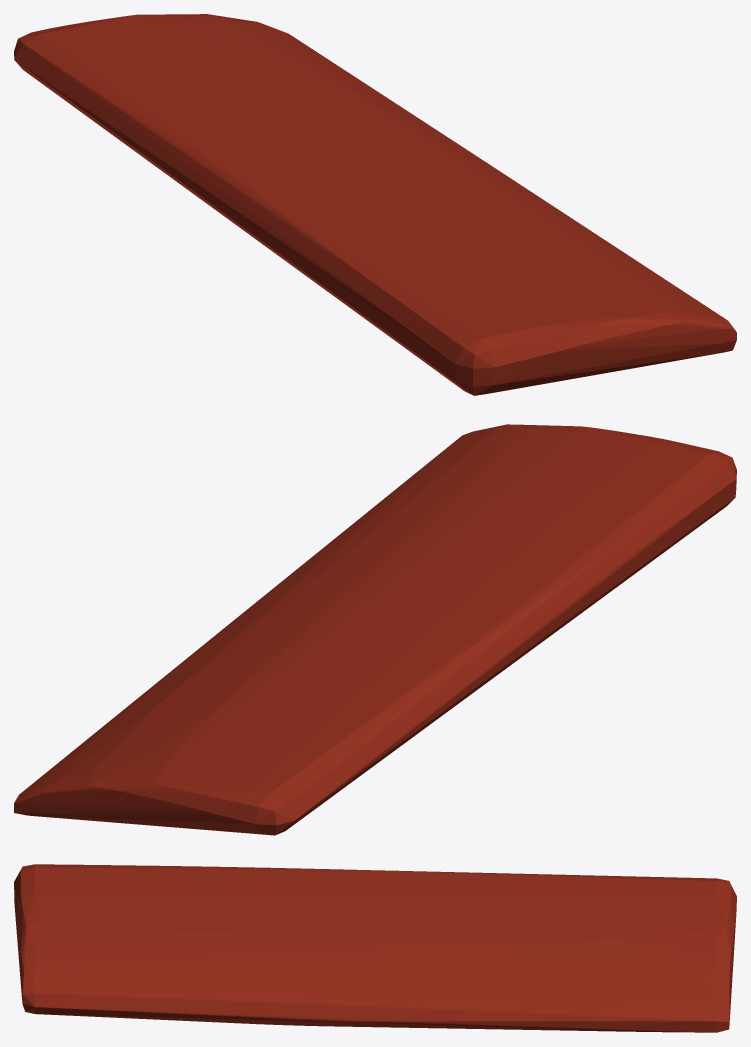
File: right-shoulder-yaw-0_part_15.obj
The picture shows the model from 3 angles, top to bottom: view 1: azimuth 30°, elevation 25°; view 2: azimuth 150°, elevation 25°; view 3: azimuth 270°, elevation 25°; orthographic projection. The views are drawn at different scales.
Bounding box in the file's own units: 0.0198 × 0.00626 × 0.0566.
